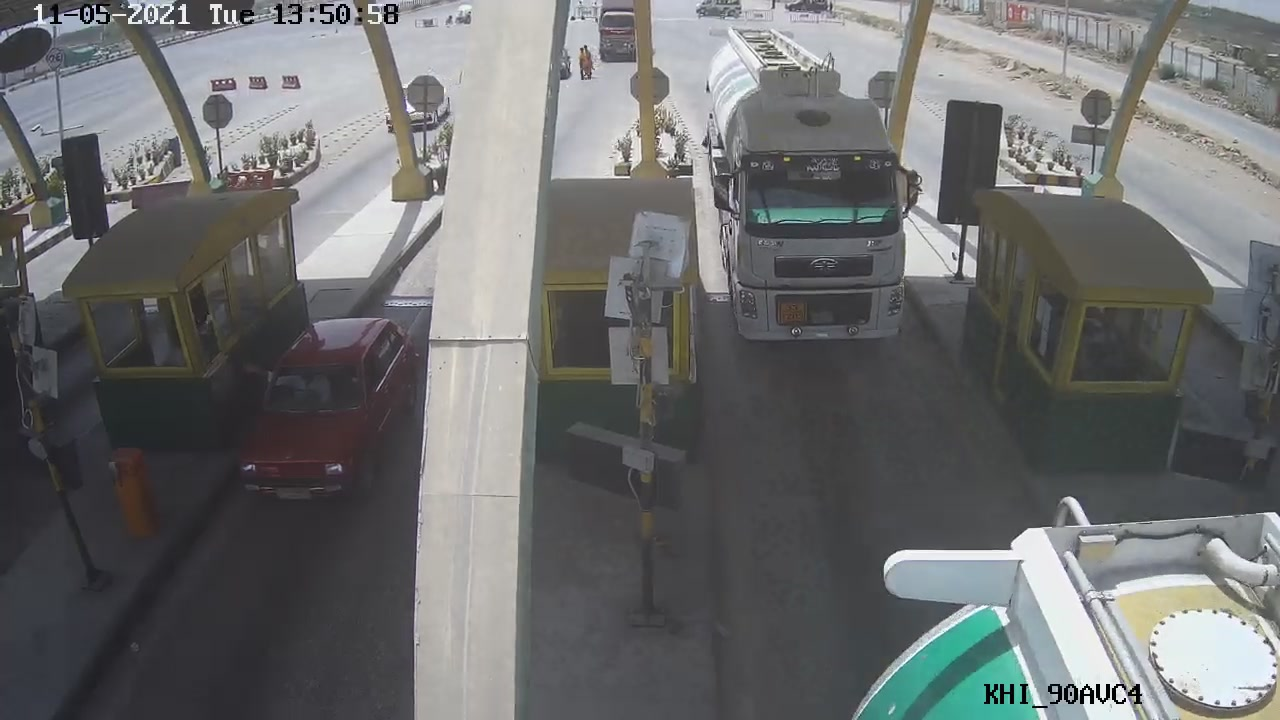F6: (697, 28, 923, 348)
